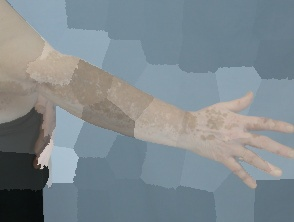vitiligo: (0, 6, 294, 202)
